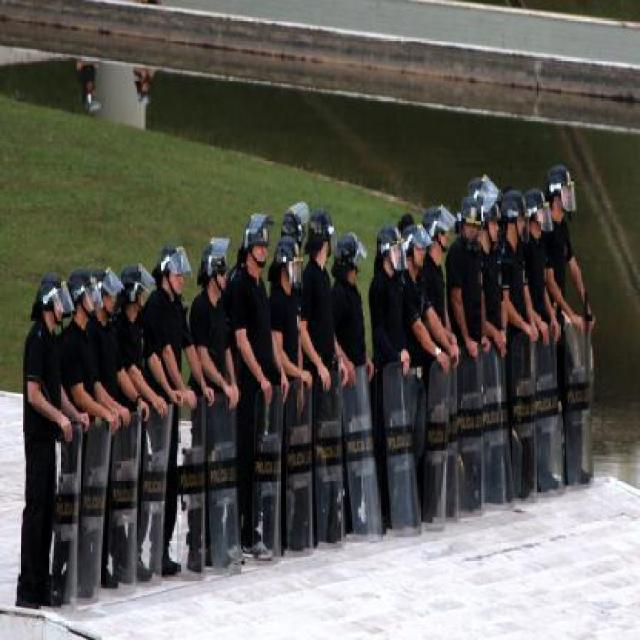Person: (54, 163, 588, 608), (16, 250, 84, 619)
